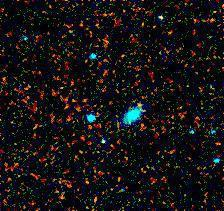star: (122, 86, 152, 116)
